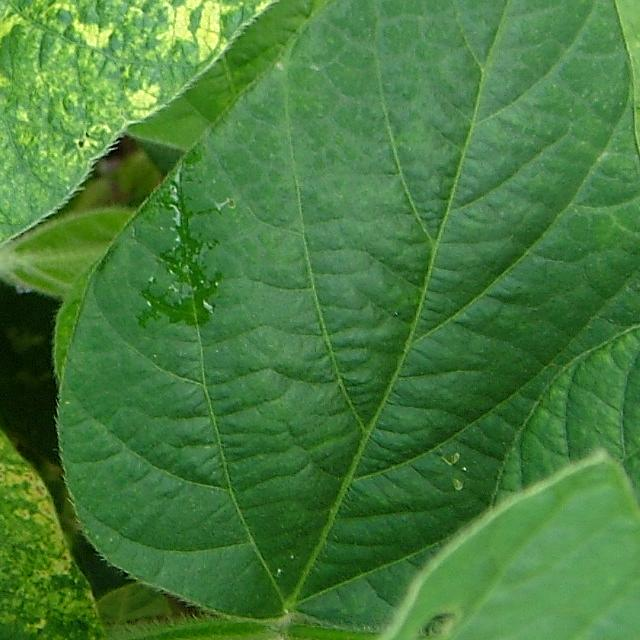Tomato leaf mosaic virus: (0, 0, 306, 274)
